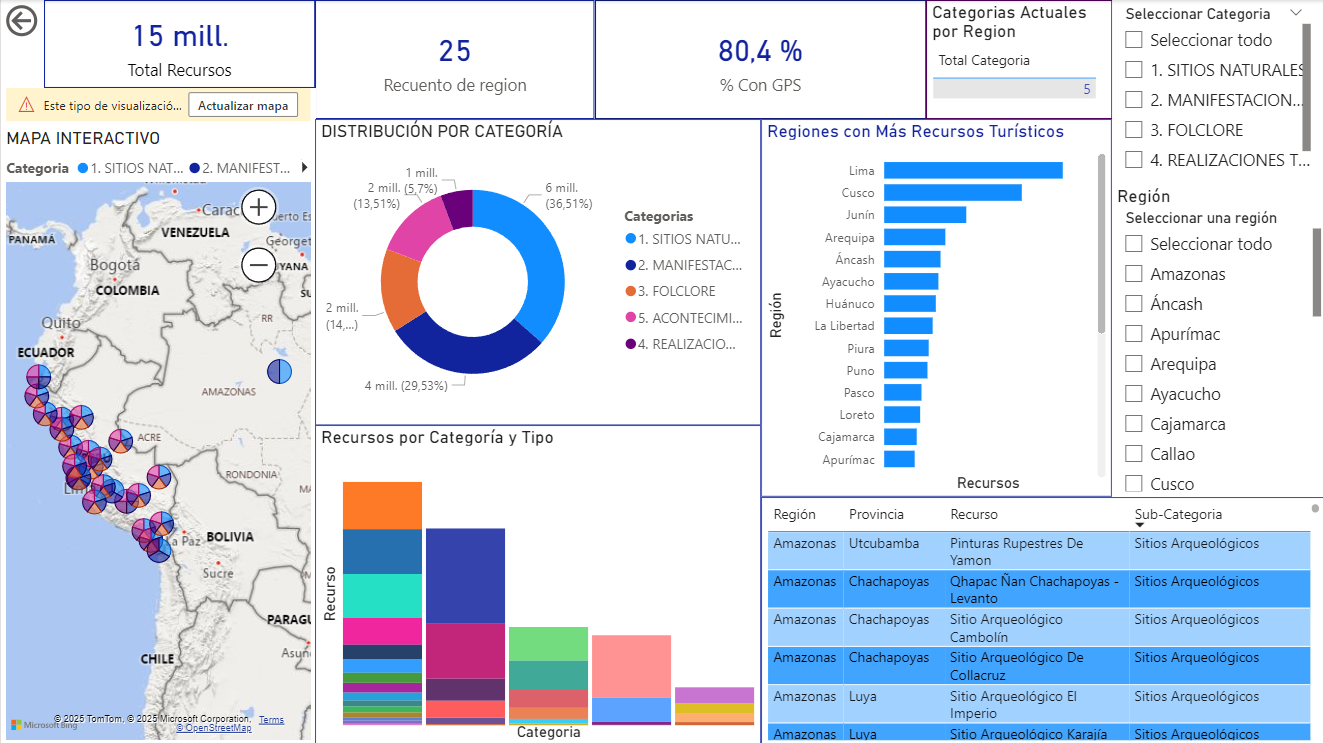

What the dashboard file says about the page in this screenshot:
{"tool":"powerbi","page":{"name":"Página 1","canvas":[1280,720],"ordinal":0},"visuals":[{"type":"card","fields":{"Values":["Sum(inventario_recursos_turisticos_limpio.id_recurso)"]},"box":[41.5,0,261.8,85],"z":0},{"type":"actionButton","box":[0,0,100,40],"z":1000},{"type":"card","fields":{"Values":["Count(inventario_recursos_turisticos_limpio.region)"]},"box":[303.3,0,270.5,115],"z":2000},{"type":"card","fields":{"Values":["inventario_recursos_turisticos_limpio.% Con GPS"]},"box":[573.8,0,319.8,115],"z":3000},{"type":"tableEx","title":"Categorias Actuales por Region","fields":{"Values":["inventario_recursos_turisticos_limpio.categoria"]},"box":[893.6,0,179.7,115],"z":4000},{"type":"map","title":"MAPA INTERACTIVO","fields":{"Series":["inventario_recursos_turisticos_limpio.categoria"],"Category":["inventario_recursos_turisticos_limpio.region"],"Y":["Avg(inventario_recursos_turisticos_limpio.latitud)"]},"box":[0,85.3,303.6,635],"z":5000},{"type":"clusteredBarChart","title":"Regiones con Más Recursos Turísticos","fields":{"Y":["Sum(inventario_recursos_turisticos_limpio.id_recurso)"],"Category":["inventario_recursos_turisticos_limpio.region"]},"box":[734.2,115,339.1,365.2],"z":6000},{"type":"donutChart","title":"DISTRIBUCIÓN POR CATEGORÍA","fields":{"Category":["inventario_recursos_turisticos_limpio.categoria"],"Y":["Sum(inventario_recursos_turisticos_limpio.id_recurso)"]},"box":[303.3,115,430.9,295.6],"z":7000},{"type":"columnChart","title":"Recursos por Categoría y Tipo","fields":{"Category":["inventario_recursos_turisticos_limpio.categoria"],"Y":["Sum(inventario_recursos_turisticos_limpio.id_recurso)"],"Series":["inventario_recursos_turisticos_limpio.tipo_de_categoria"]},"box":[303.3,410.6,430.9,310.1],"z":8000},{"type":"tableEx","fields":{"Values":["inventario_recursos_turisticos_limpio.region","inventario_recursos_turisticos_limpio.provincia","inventario_recursos_turisticos_limpio.nombre_del_recurso","inventario_recursos_turisticos_limpio.tipo_de_categoria"]},"box":[734.2,480.1,545.8,240.5],"z":9000},{"type":"slicer","title":"Región","fields":{"Values":["inventario_recursos_turisticos_limpio.region"]},"box":[1073.3,178.7,206.7,301.4],"z":10000},{"type":"slicer","fields":{"Values":["inventario_recursos_turisticos_limpio.categoria"]},"box":[1073.3,0,197.1,174.9],"z":11000}]}

Visuals, with their boxes in screenshot pixels (x1, y1, x2, y2):
card - Sum(inventario_recursos_turisticos_limpio.id_recurso): BBox(46, 0, 313, 87)
actionButton: BBox(3, 0, 105, 41)
card - Count(inventario_recursos_turisticos_limpio.region): BBox(313, 0, 588, 117)
card - inventario_recursos_turisticos_limpio.% Con GPS: BBox(588, 0, 914, 117)
"Categorias Actuales por Region" tableEx: BBox(914, 0, 1097, 117)
"MAPA INTERACTIVO" map: BBox(3, 87, 313, 734)
"Regiones con Más Recursos Turísticos" clusteredBarChart: BBox(752, 117, 1097, 489)
"DISTRIBUCIÓN POR CATEGORÍA" donutChart: BBox(313, 117, 752, 419)
"Recursos por Categoría y Tipo" columnChart: BBox(313, 419, 752, 735)
tableEx - inventario_recursos_turisticos_limpio.region x inventario_recursos_turisticos_limpio.provincia: BBox(752, 489, 1308, 735)
"Región" slicer: BBox(1097, 182, 1308, 489)
slicer - inventario_recursos_turisticos_limpio.categoria: BBox(1097, 0, 1298, 178)
